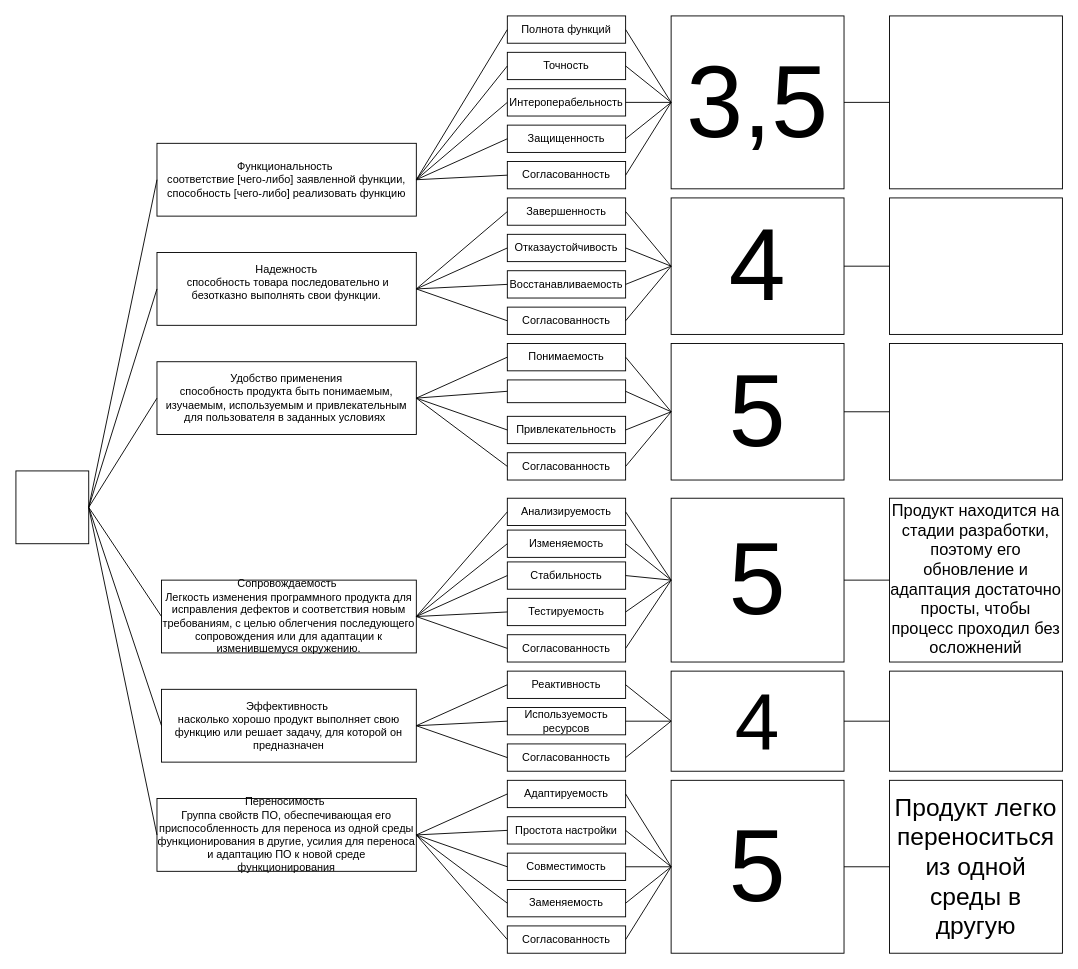
This 1078x969 diagram has some shape labels left out. The centre of each missing label's shape, as x and y in pixels:
Качество ПО: the point at 52,507
Обучаемость: the point at 566,391
Полнота функций и защищённость реализованы не в полной мере: the point at 975,102
Продукт выполняет свои функции, но не так эффективно, как хотелось бы: the point at 975,720
Продукт максимально прост в использовании, дизайн продукта приятен глазу: the point at 975,411
Проект активно обновляется, поэтому оценка завершённости понижена: the point at 975,265
